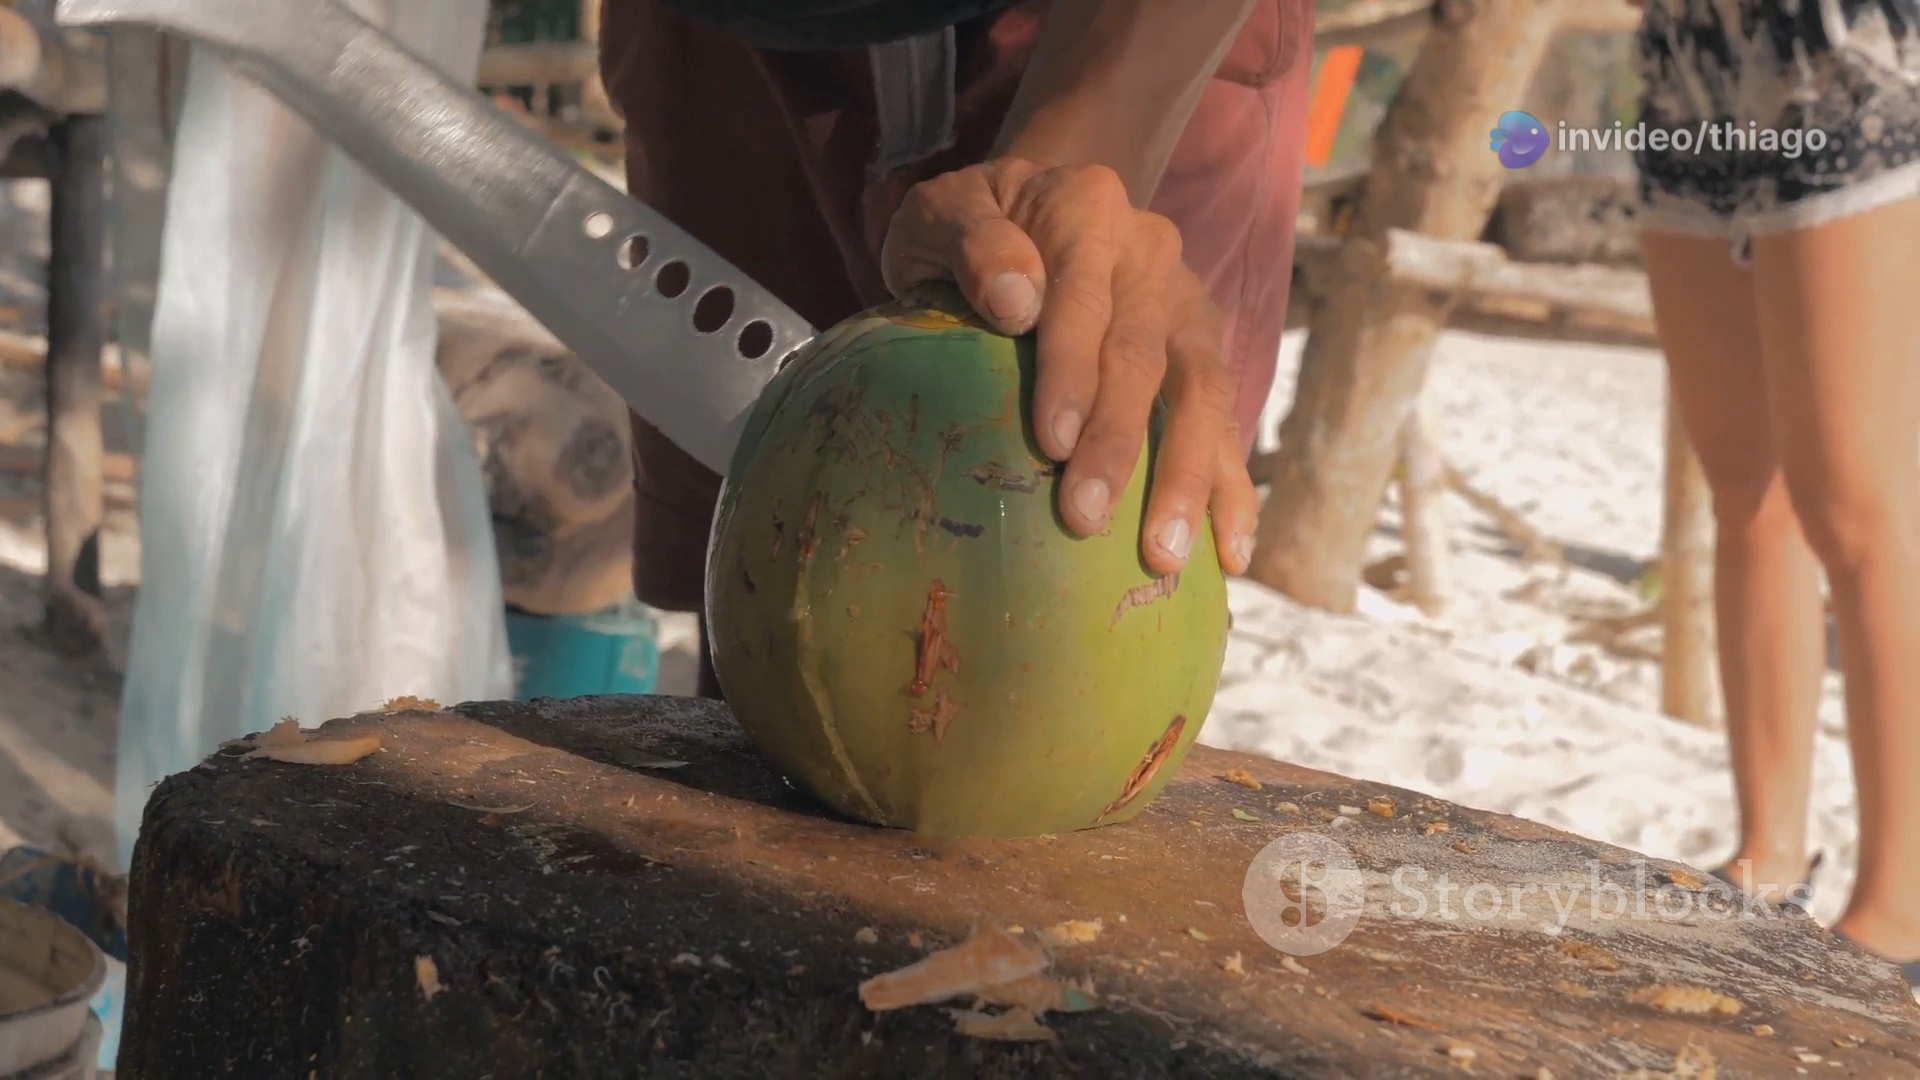cortante: (54, 0, 835, 476)
